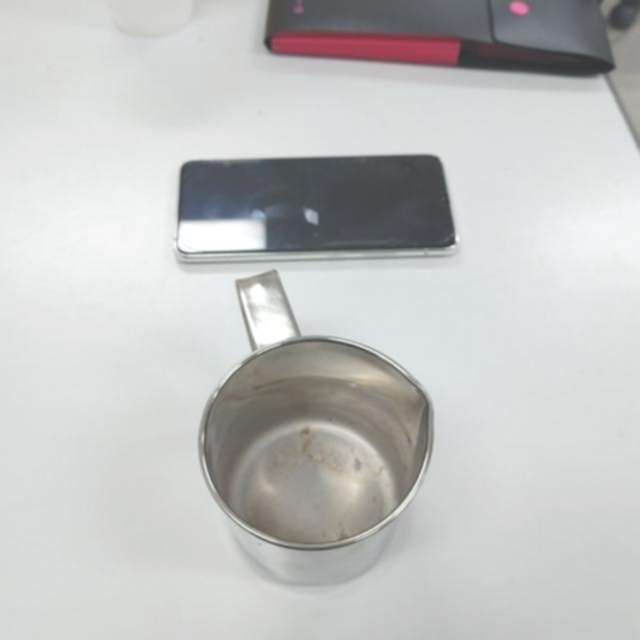cup: (194, 266, 434, 588)
phone: (175, 153, 458, 263)
